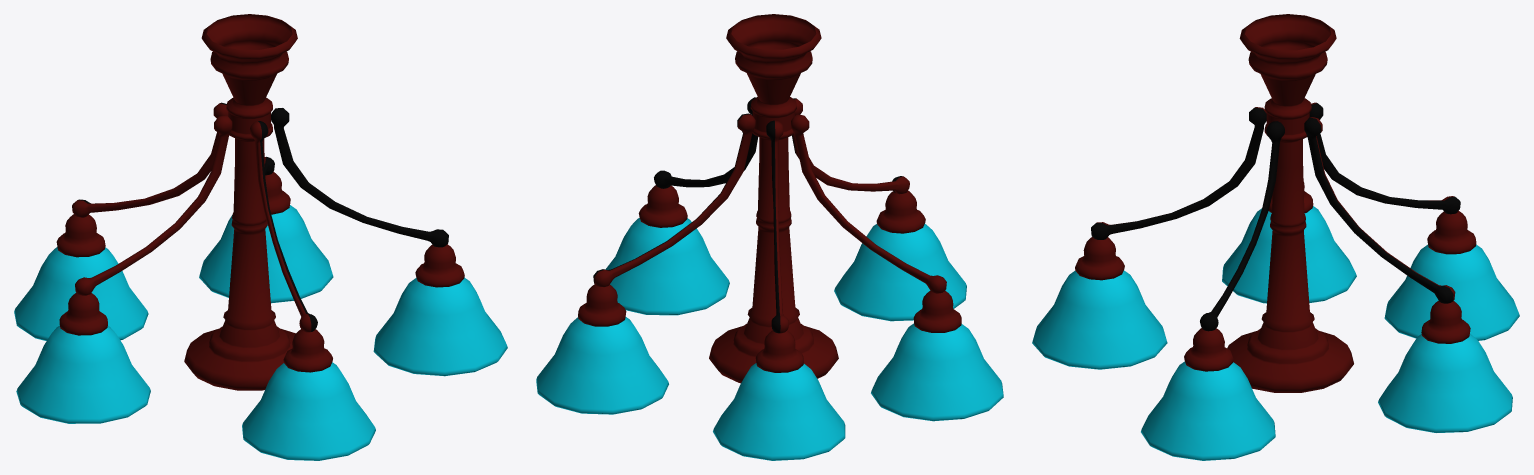
Rendered from SM_Chandelier.fbx.
3 views of the same model, side by side, from view 1: azimuth 30°, elevation 25°; view 2: azimuth 150°, elevation 25°; view 3: azimuth 270°, elevation 25° (orthographic).
Parts seen in each view (by area): view 1: SM_Chandelier; view 2: SM_Chandelier; view 3: SM_Chandelier.
Part boxes in pixels (<box>): SM_Chandelier: <box>14,14,507,460</box>; SM_Chandelier: <box>536,14,1003,460</box>; SM_Chandelier: <box>1032,14,1519,460</box>.
Bounding box in the file's own units: 105 × 77.62 × 101.
